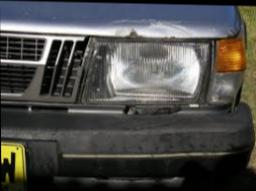Bonnet: (36, 1, 241, 39)
Bumper: (1, 106, 253, 191)
